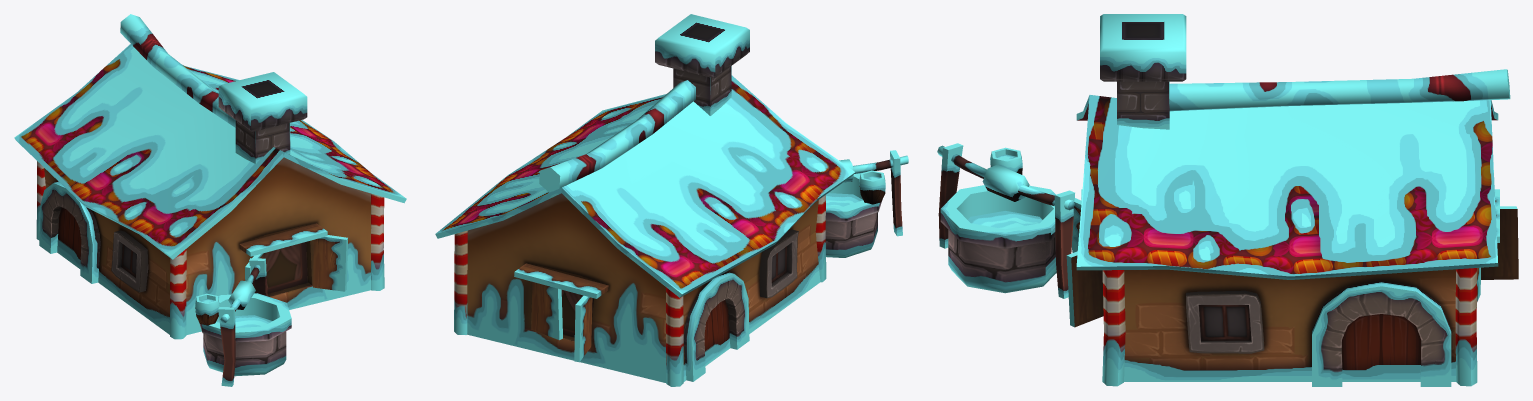
File: House1.FBX
3 views of the same model, side by side, from view 1: azimuth 30°, elevation 25°; view 2: azimuth 150°, elevation 25°; view 3: azimuth 270°, elevation 25° (orthographic). The views are drawn at different scales.
Visible parts, largest first — view 1: House1; view 2: House1; view 3: House1.
Boxes of the visible parts, x1,y1,x2,y2 form: House1: [14, 14, 406, 386]; House1: [435, 14, 908, 386]; House1: [937, 14, 1518, 386].
Bounding box in the file's own units: 189 × 154 × 284.
1 material, 1 textured.
